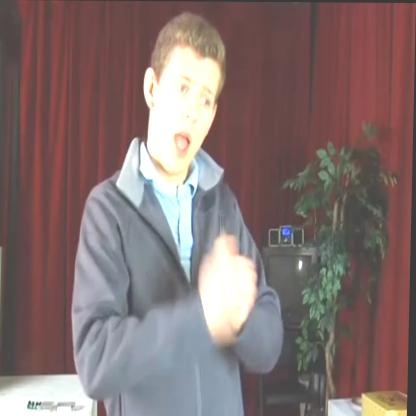HowAreYou: (186, 226, 266, 335)
